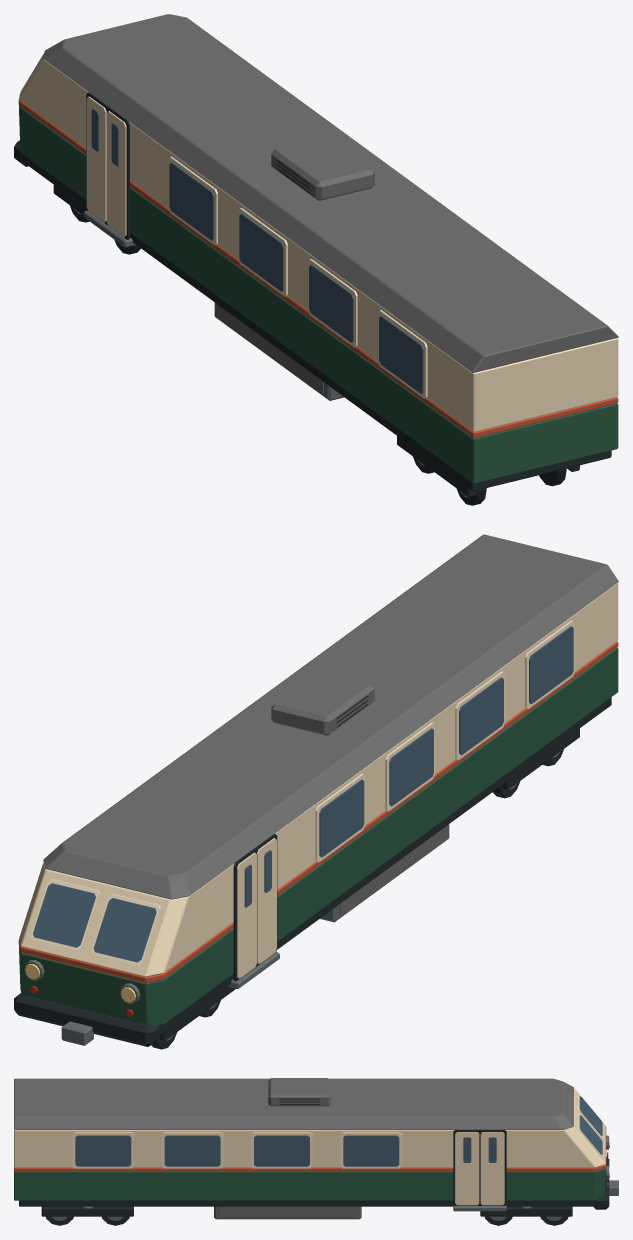
The model's file is Cab.fbx.
3 renders of one model, top to bottom at view 1: azimuth 30°, elevation 25°; view 2: azimuth 150°, elevation 25°; view 3: azimuth 270°, elevation 25°, orthographic. The views are drawn at different scales.
Visible parts, largest first — view 1: Roof, LowerBody, UpperBody, Chassis, RoofHVAC, WaistStripe, WindowGlass_-1_3, WindowGlass_-1_1, WindowGlass_-1_2, WindowGlass_-1_0, DoorPanel_-1_0, DoorPanel_-1_1 (+7 smaller); view 2: Roof, LowerBody, UpperBody, RoofHVAC, Chassis, WaistStripe, FrontSkirt, WindscreenGlass_-1, WindscreenGlass_1, WindowGlass_-1_3, WindowGlass_-1_2, WindowGlass_-1_1 (+12 smaller); view 3: Roof, LowerBody, UpperBody, Chassis, WaistStripe, WindowGlass_1_0, WindowGlass_1_1, WindowGlass_1_3, WindowGlass_1_2, RoofHVAC, DoorPanel_1_0, DoorPanel_1_1 (+15 smaller).
Part boxes in pixels (x1,y1,x2,y2): Roof: (43,14,618,372); LowerBody: (19,105,618,483); UpperBody: (19,52,618,432); Chassis: (22,153,611,491); RoofHVAC: (271,137,374,200); WaistStripe: (18,95,618,438); WindowGlass_-1_3: (169,162,214,240); WindowGlass_-1_1: (309,264,353,342); WindowGlass_-1_2: (239,213,283,291); WindowGlass_-1_0: (379,316,423,393); DoorPanel_-1_0: (106,111,126,236); DoorPanel_-1_1: (86,96,106,222); Roof: (43,534,618,899); LowerBody: (19,647,618,1025); UpperBody: (19,583,618,976); RoofHVAC: (271,671,374,735); Chassis: (159,697,611,1034); WaistStripe: (18,641,618,982); FrontSkirt: (14,993,159,1046); WindscreenGlass_-1: (93,898,156,962); WindscreenGlass_1: (33,883,95,947); WindowGlass_-1_3: (319,779,364,857); WindowGlass_-1_2: (389,728,433,806); WindowGlass_-1_1: (459,677,503,755); Roof: (14,1078,573,1129); LowerBody: (14,1168,605,1200); UpperBody: (14,1088,605,1167); Chassis: (19,1200,595,1206); WaistStripe: (14,1126,606,1171); WindowGlass_1_0: (75,1135,131,1166); WindowGlass_1_1: (164,1135,220,1166); WindowGlass_1_3: (343,1135,399,1166); WindowGlass_1_2: (254,1135,309,1166); RoofHVAC: (268,1078,330,1106); DoorPanel_1_0: (455,1132,479,1205); DoorPanel_1_1: (480,1132,504,1205).
Bounding box in the file's own units: 2.96 × 3.58 × 15.58.
